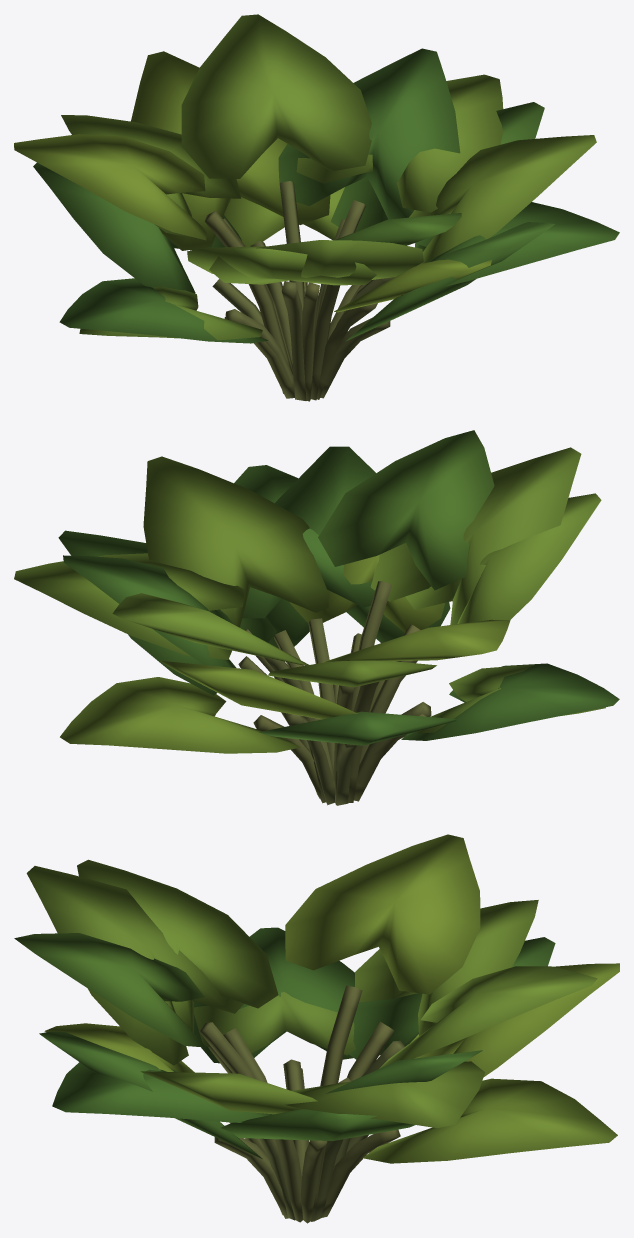
Rendered from potfill_hosta_lime.glb.
3 renders of one model, top to bottom at view 1: azimuth 30°, elevation 25°; view 2: azimuth 150°, elevation 25°; view 3: azimuth 270°, elevation 25°, orthographic. The views are drawn at different scales.
Visible parts, largest first — view 1: Sammel Pflanze, Sammel Putz; view 2: Sammel Pflanze, Sammel Putz; view 3: Sammel Pflanze, Sammel Putz.
Boxes of the visible parts, x1,y1,x2,y2 form: Sammel Pflanze: (14,14,619,343); Sammel Putz: (205,181,394,401); Sammel Pflanze: (14,430,619,753); Sammel Putz: (238,581,431,805); Sammel Pflanze: (14,834,619,1163); Sammel Putz: (198,985,404,1223).
Bounding box in the file's own units: 0.4036 × 0.2048 × 0.3875.
